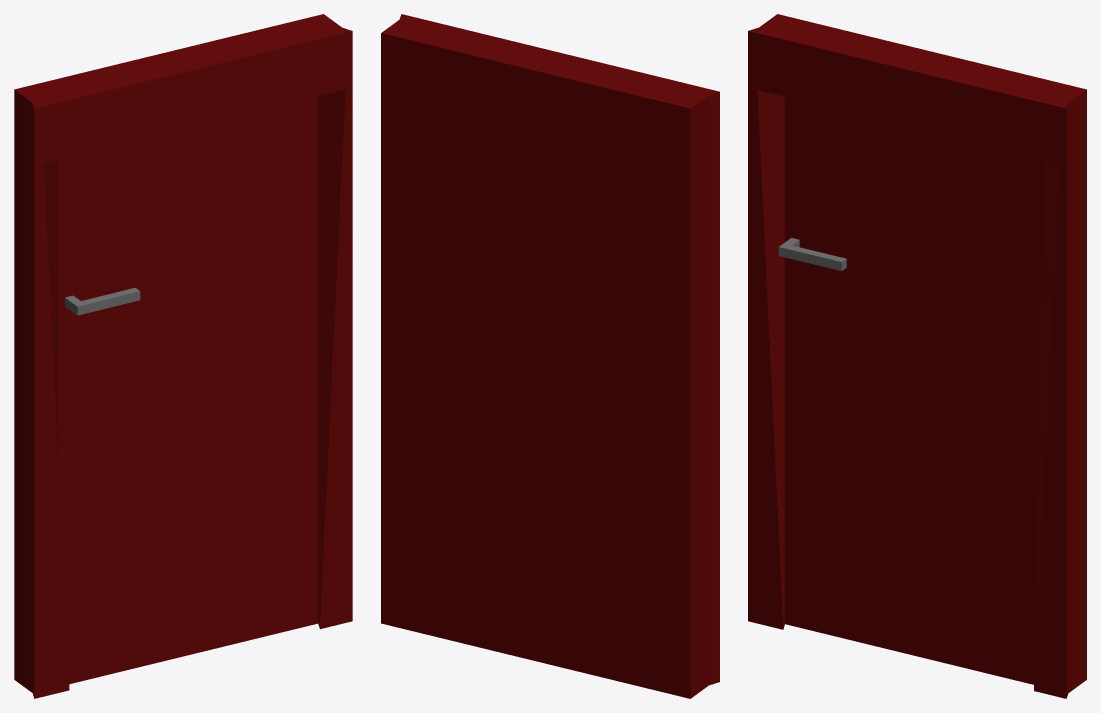
Rendered from Kapımız.fbx.
3 renders of one model, left to right at view 1: azimuth 30°, elevation 25°; view 2: azimuth 150°, elevation 25°; view 3: azimuth 330°, elevation 25°, orthographic.
Parts seen in each view (by area): view 1: pCube4; view 2: pCube4; view 3: pCube4.
Boxes of the visible parts, left/top/right/bottom form: pCube4: left=14, top=14, right=352, bottom=698; pCube4: left=381, top=14, right=719, bottom=698; pCube4: left=748, top=14, right=1086, bottom=698.
Bounding box in the file's own units: 1.48 × 2.62 × 0.2487.
